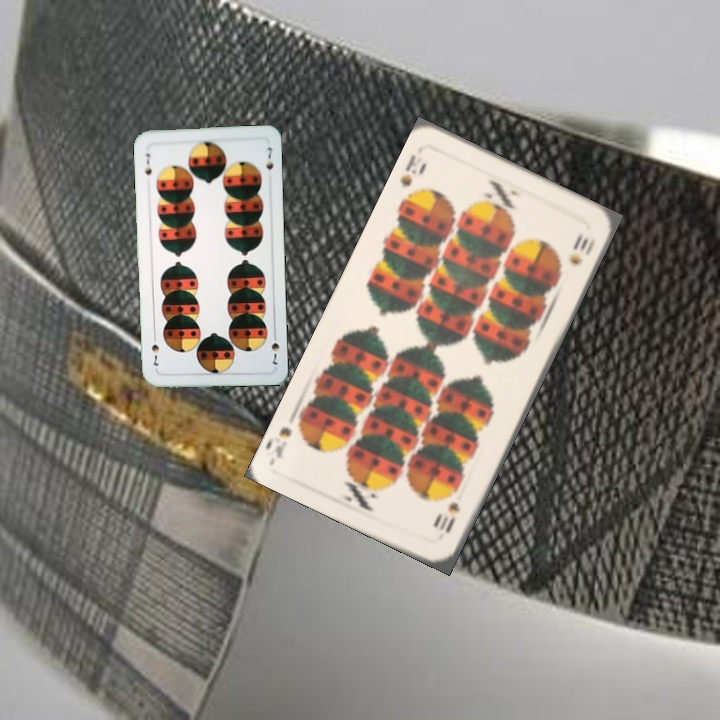S10: (435, 498, 462, 536), (395, 150, 419, 191)
S7: (267, 328, 282, 367), (141, 149, 154, 177)
